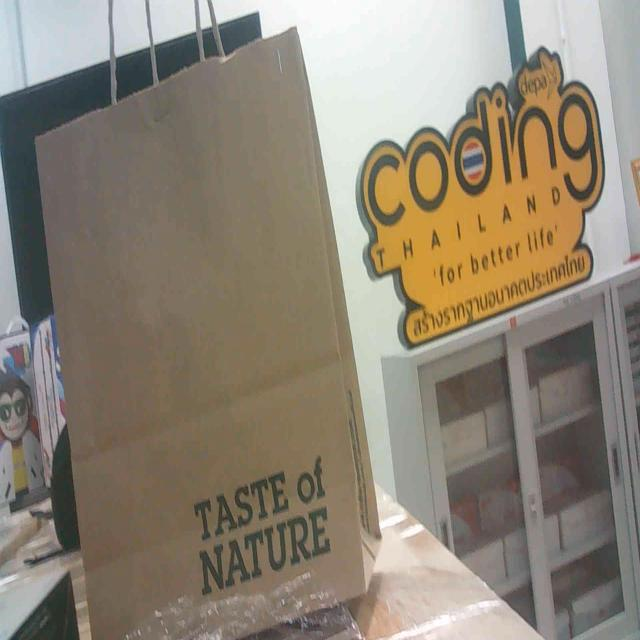bag: (45, 8, 392, 640)
